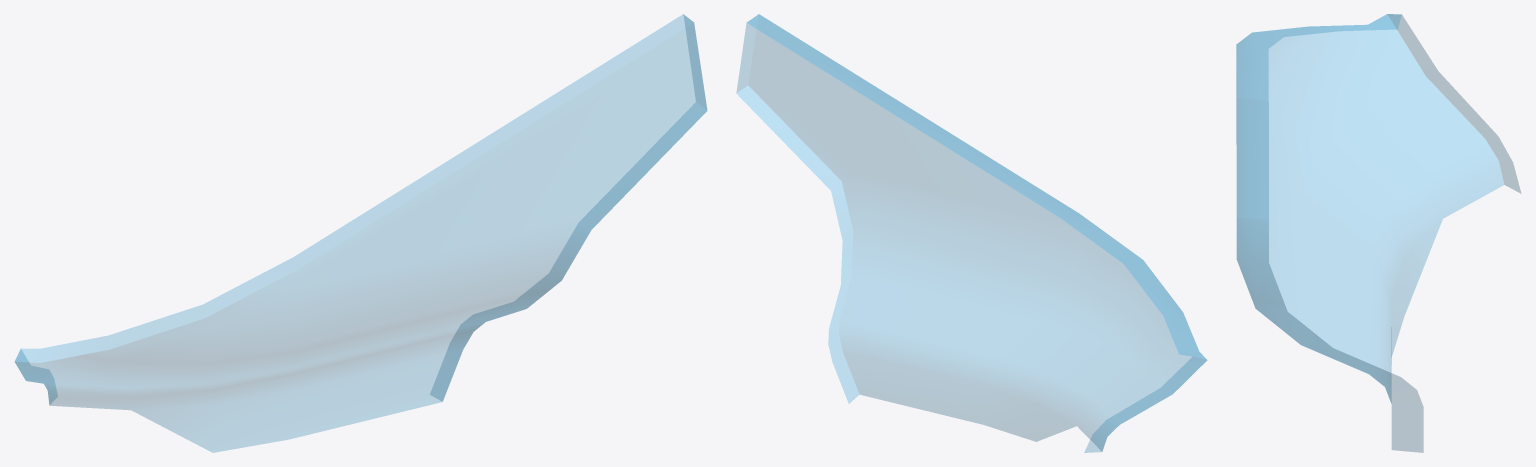
Rendered from p_hvs_minidungeon_rewardlocker_shatterglass_part08.fbx.
The picture shows the model from 3 angles, left to right: view 1: azimuth 30°, elevation 25°; view 2: azimuth 150°, elevation 25°; view 3: azimuth 270°, elevation 25°; orthographic projection. The views are drawn at different scales.
Visible parts, largest first — view 1: 8_shatterglass; view 2: 8_shatterglass; view 3: 8_shatterglass.
Part boxes in pixels (bbox=[...]): 8_shatterglass: bbox=[14, 14, 707, 452]; 8_shatterglass: bbox=[736, 14, 1207, 452]; 8_shatterglass: bbox=[1236, 14, 1520, 452].
Size of the model in its own units: 2.8 by 1.61 by 0.8925.
